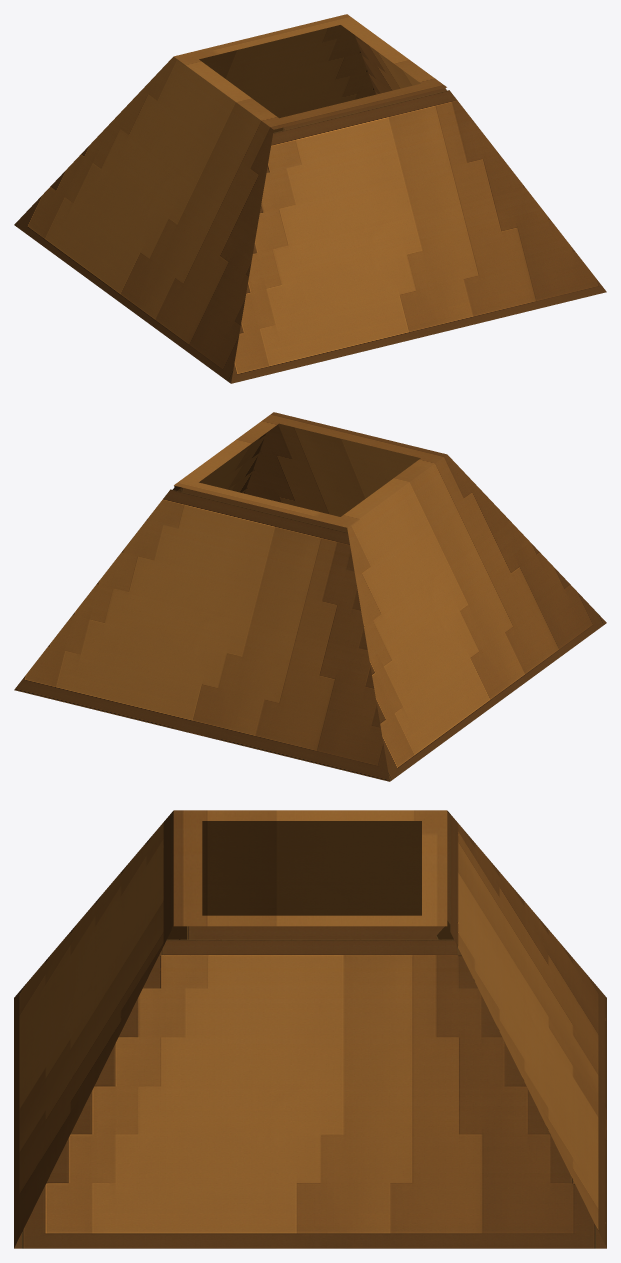
The model's file is lampara.obj.
The picture shows the model from 3 angles, top to bottom: view 1: azimuth 30°, elevation 25°; view 2: azimuth 150°, elevation 25°; view 3: azimuth 270°, elevation 25°; orthographic projection. The views are drawn at different scales.
Visible parts, largest first — view 1: lampara; view 2: lampara; view 3: lampara.
Boxes of the visible parts, box(x1,y1,x2,y2) form: lampara: box(14, 14, 606, 383); lampara: box(14, 412, 606, 781); lampara: box(14, 810, 606, 1248).
Bounding box in the file's own units: 0.3839 × 0.1821 × 0.3839.
Materials: 2 (2 with a texture image).
